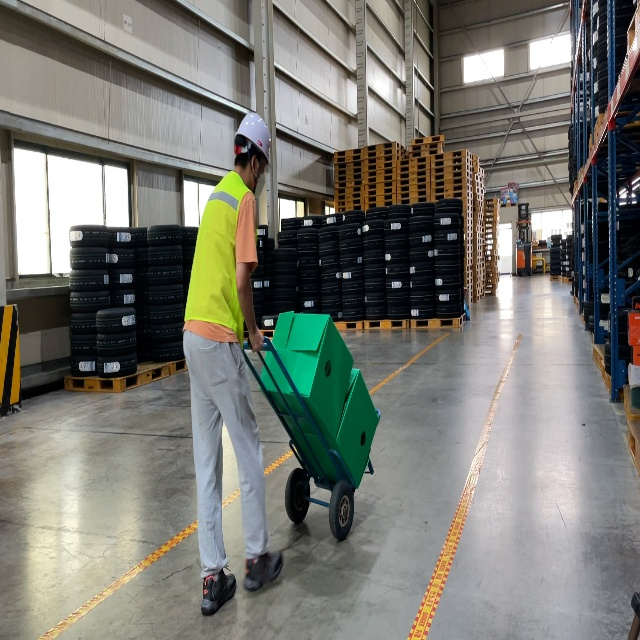Box: (258, 310, 354, 441), (290, 368, 379, 490)
Worker: (181, 111, 284, 616)
